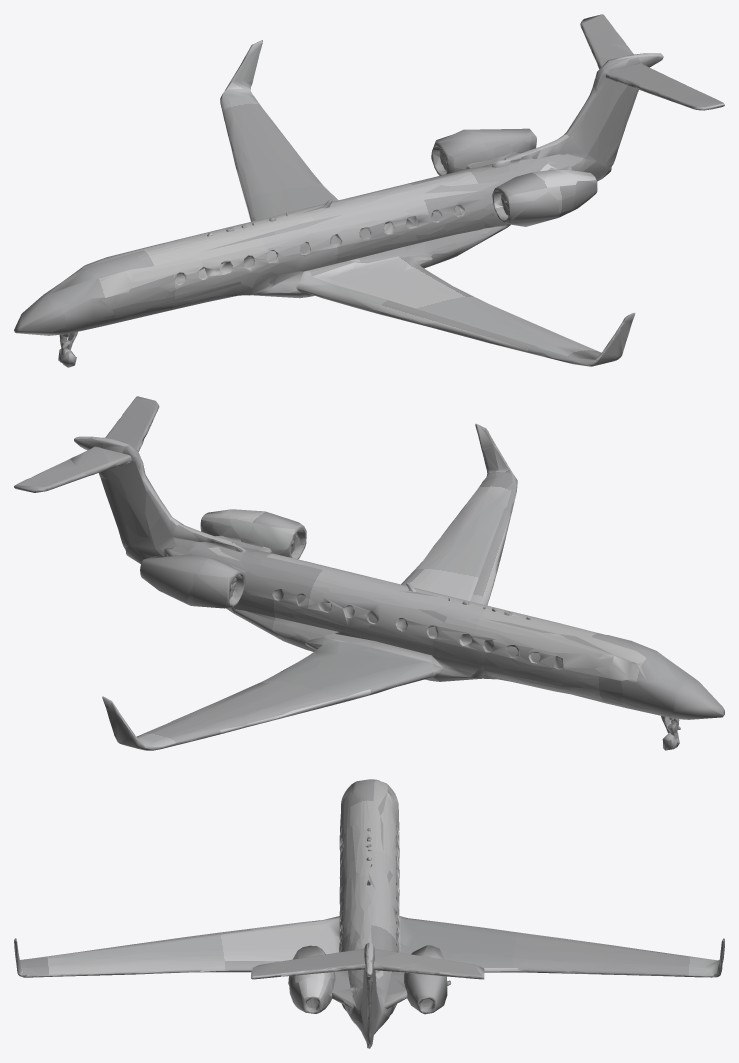
The model's file is jet_heavy.glb.
3 renders of one model, top to bottom at view 1: azimuth 30°, elevation 25°; view 2: azimuth 150°, elevation 25°; view 3: azimuth 270°, elevation 25°, orthographic. The views are drawn at different scales.
Visible parts, largest first — view 1: LO; view 2: LO; view 3: LO.
Part boxes in pixels (box(x1,y1,x2,y2)): LO: box(14, 14, 724, 367); LO: box(14, 396, 724, 750); LO: box(14, 779, 724, 1048).
Size of the model in its own units: 30.4 by 7.79 by 30.36.
1 material, 1 textured.
